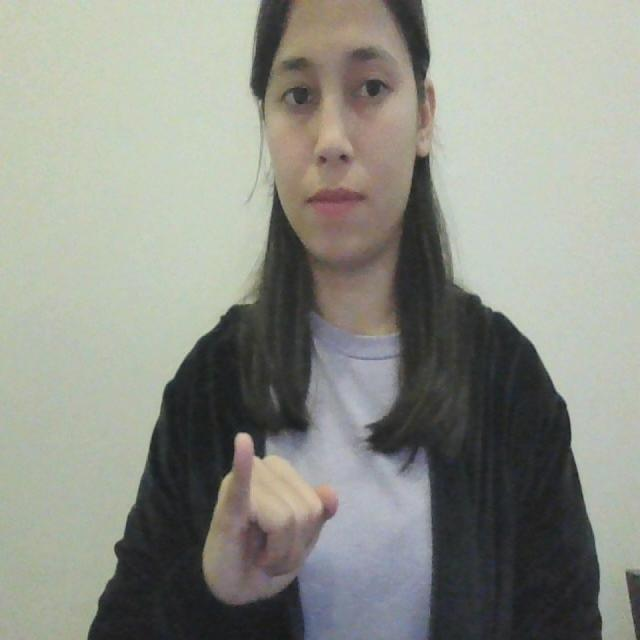kotu: (198, 422, 344, 602)
